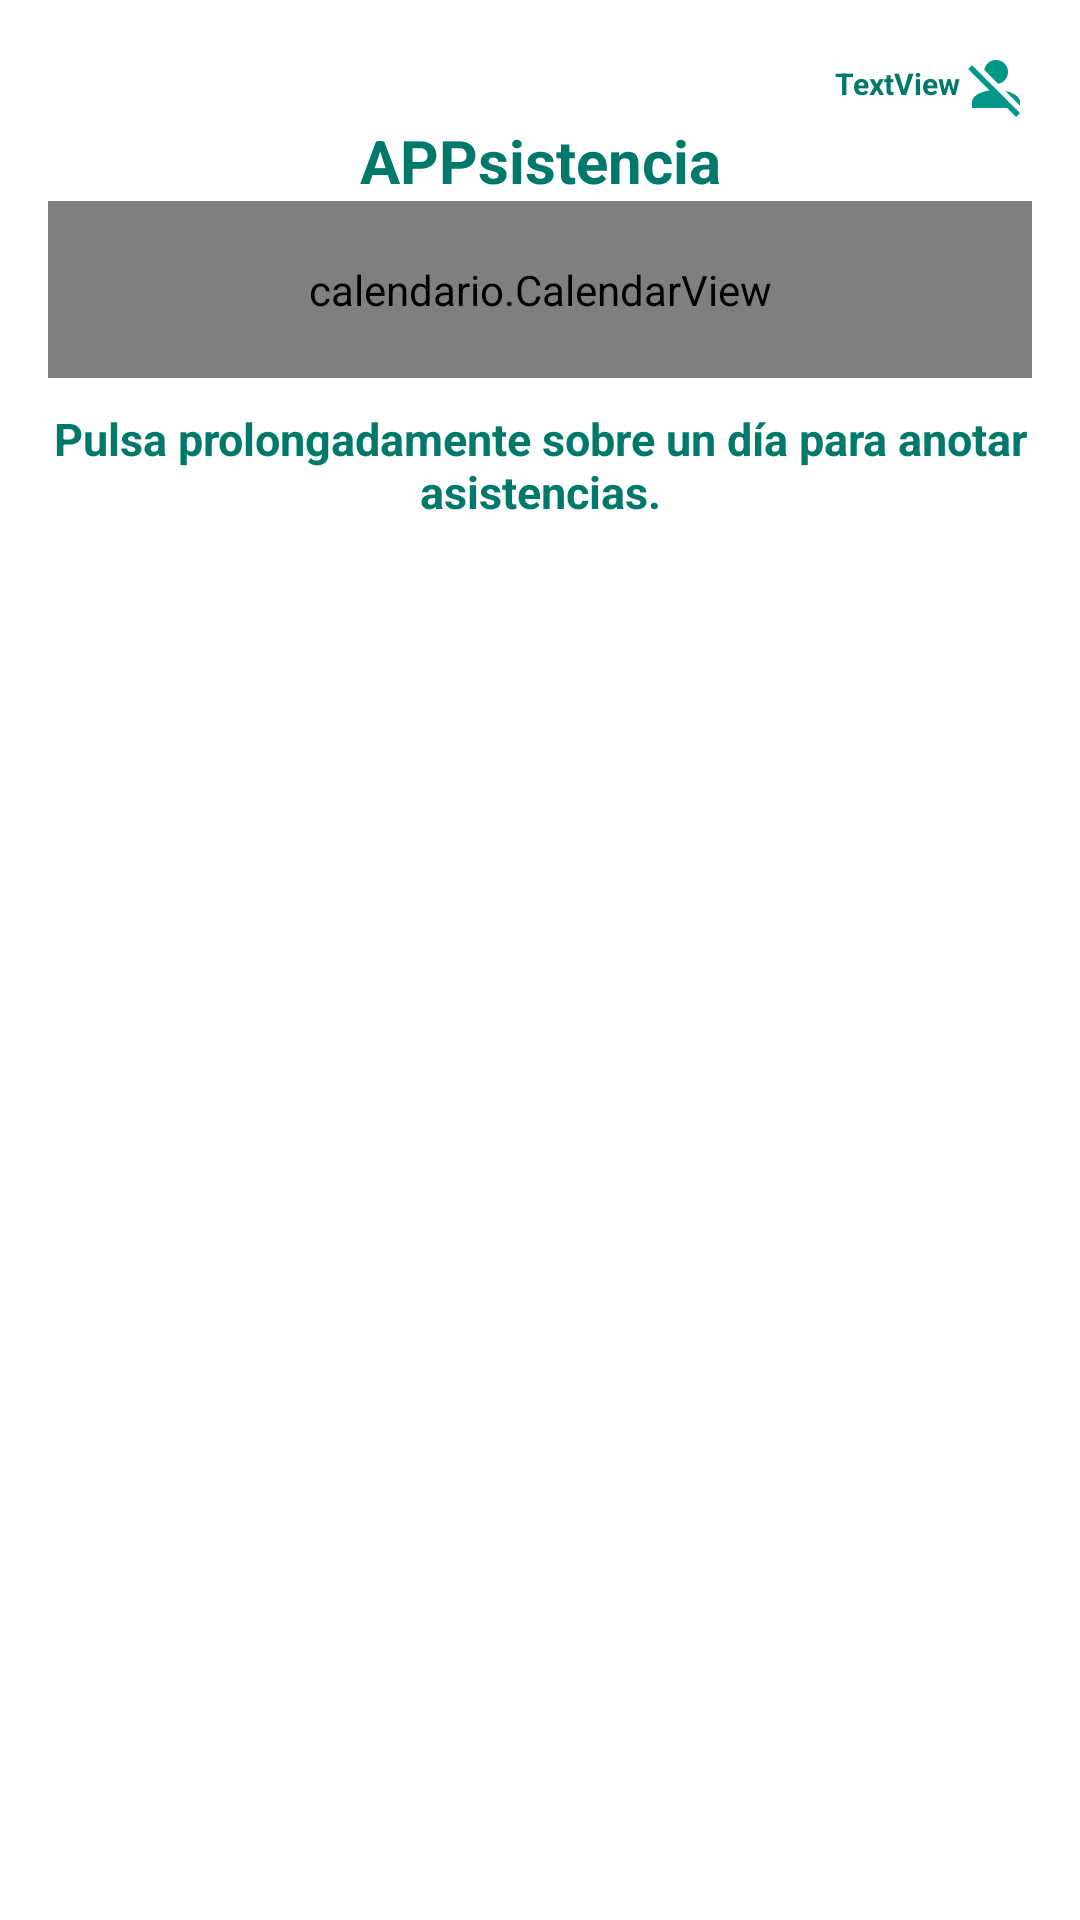

Icons on this 1080 x 1920 Android screen, each with its box as (x1=x1, y1=y1, x2=x2, y2=y2):
account off: (x1=968, y1=60, x2=1020, y2=117)
